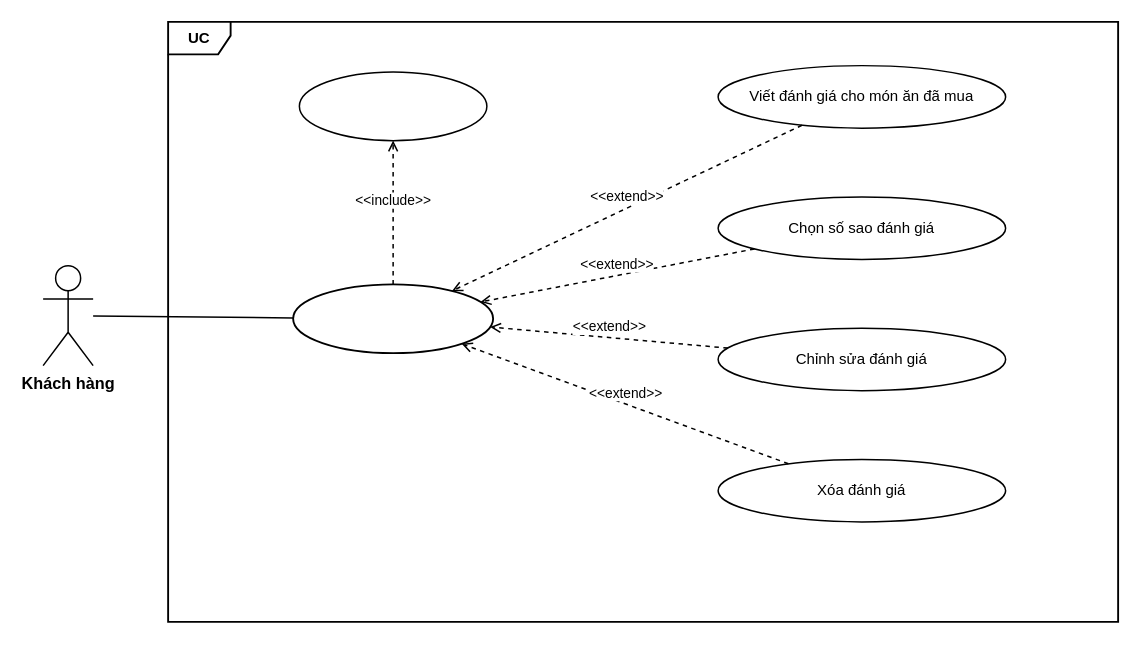
Image size: 1140x645. Some labels were removed from this diagram. The shapes that lost their labels are listed below. From the top down, each one's centre as x and y in pixels, then its label:
At [392,105]: "Đăng nhập".
At [393,318]: "Đánh giá".
